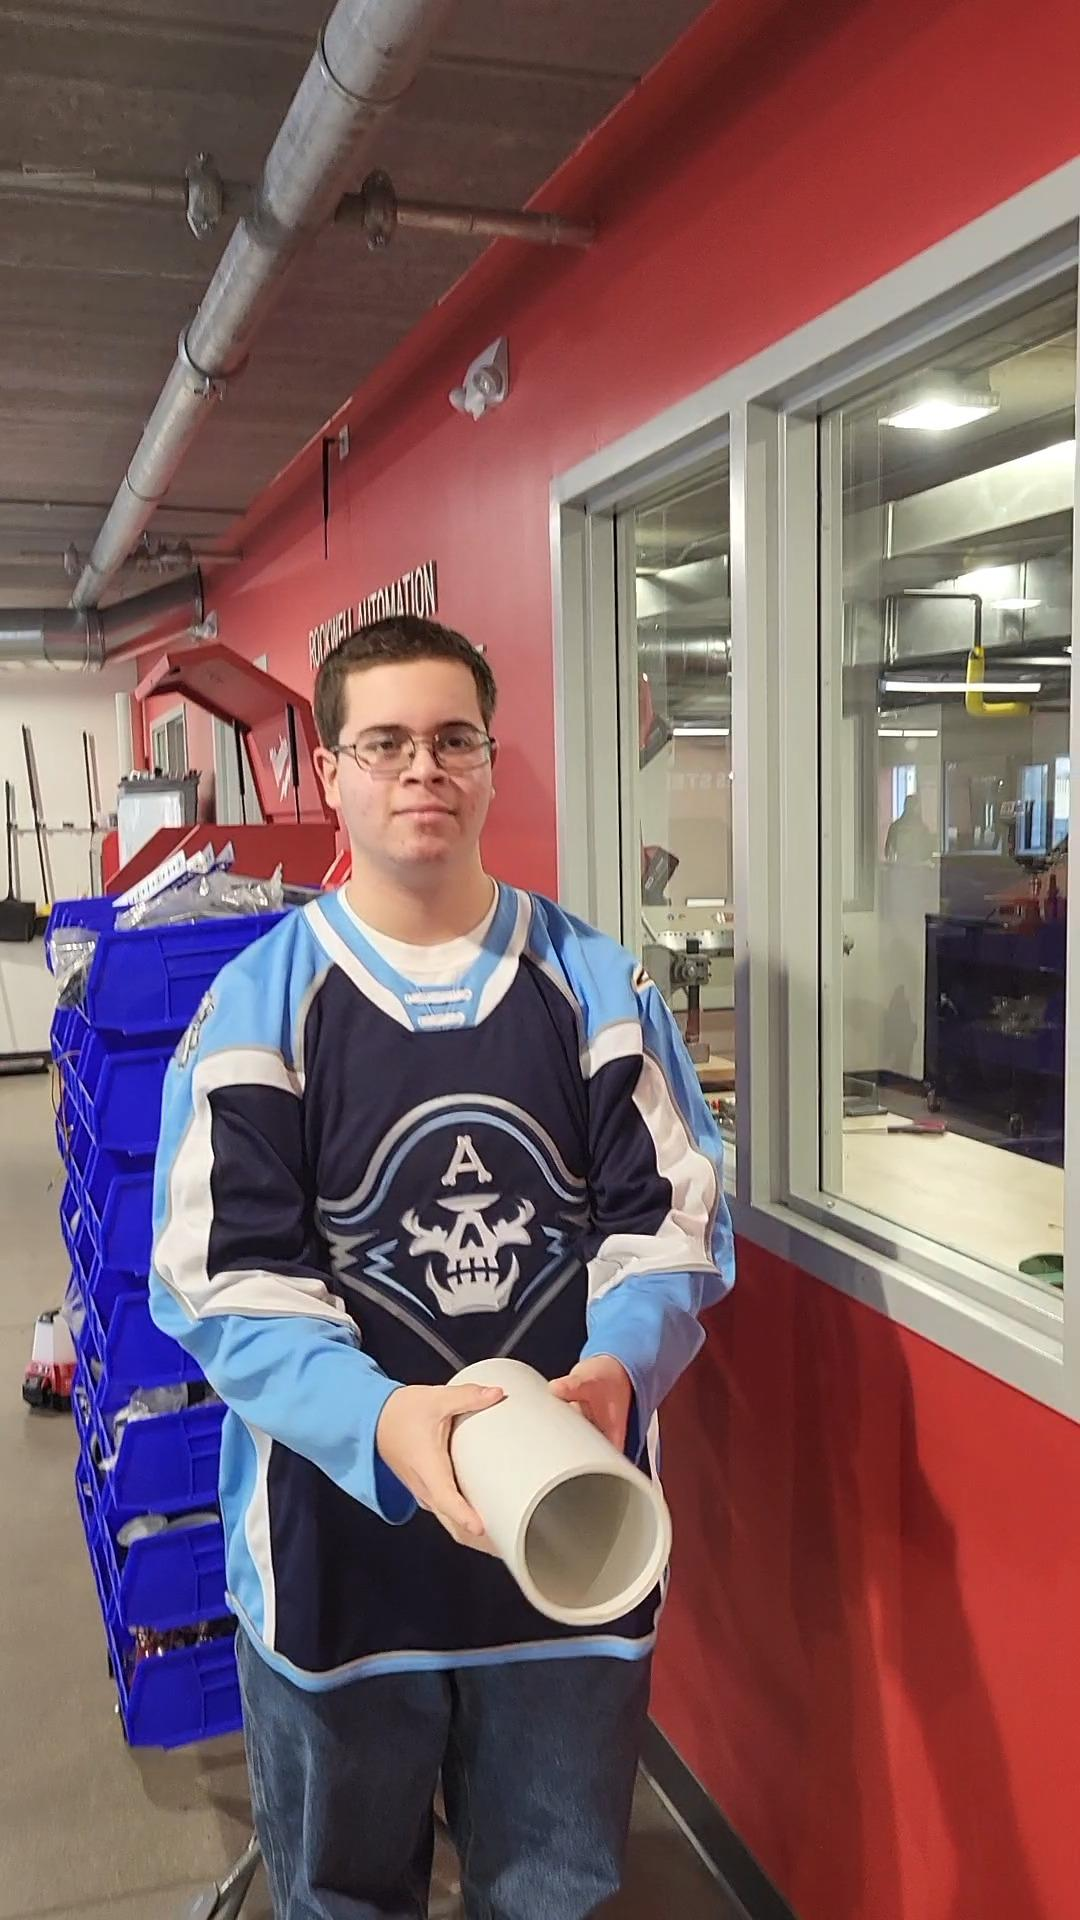coral: (430, 1361, 674, 1643)
